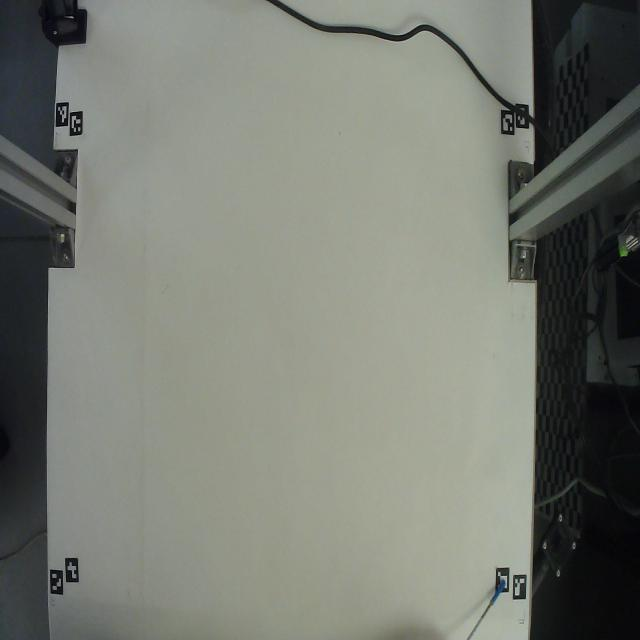Pres: (459, 563, 508, 640)
